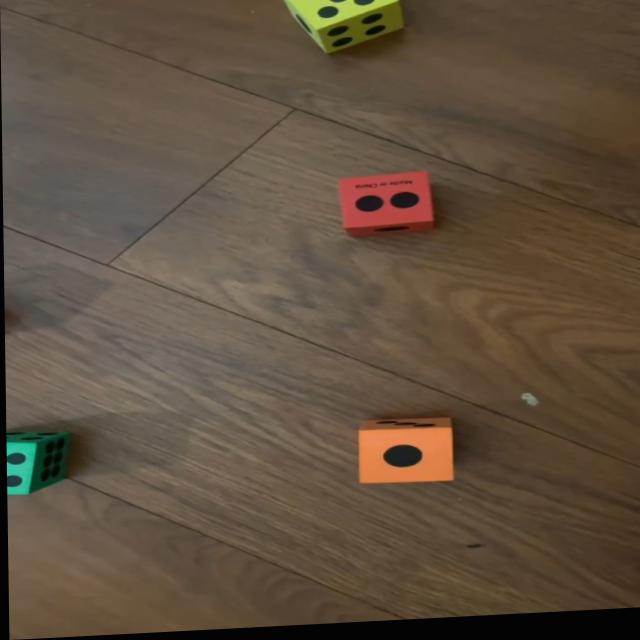cube: (338, 174, 435, 242), (5, 429, 69, 495)
